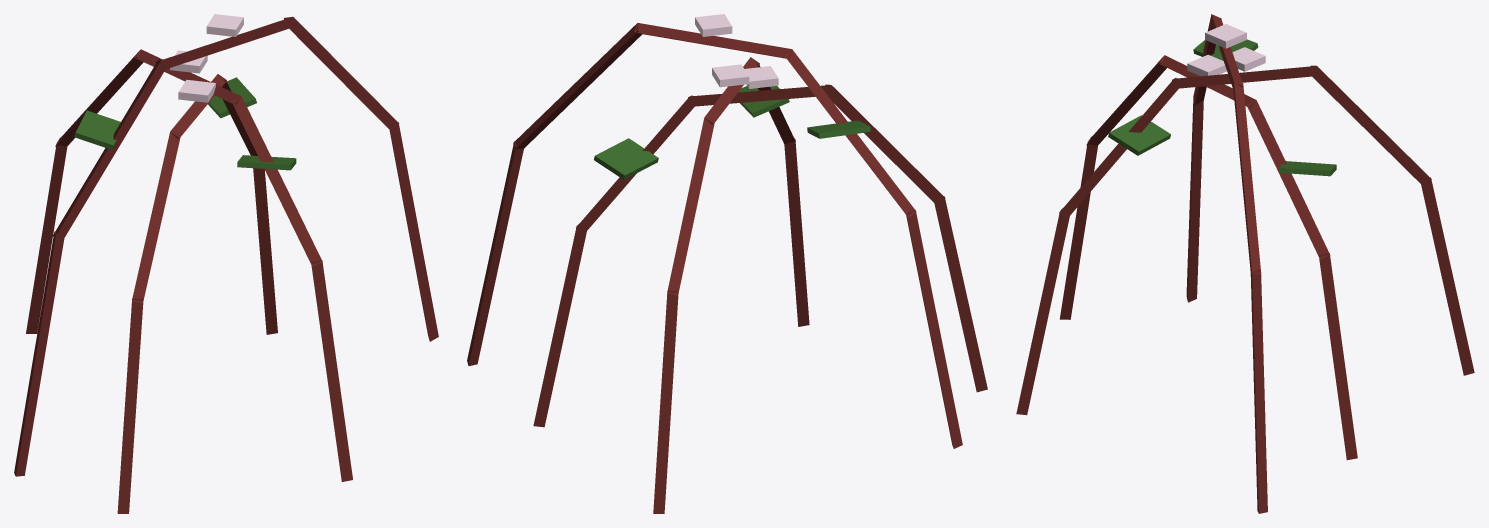
The model's file is Prop_Bee_Flora_Bramble_LOD1.glb.
3 renders of one model, left to right at view 1: azimuth 30°, elevation 25°; view 2: azimuth 150°, elevation 25°; view 3: azimuth 270°, elevation 25°, orthographic. The views are drawn at different scales.
Parts seen in each view (by area): view 1: Prop_Bee_Flora_Bramble; view 2: Prop_Bee_Flora_Bramble; view 3: Prop_Bee_Flora_Bramble.
Part boxes in pixels (x1,y1,x2,y2): Prop_Bee_Flora_Bramble: (14, 14, 438, 513); Prop_Bee_Flora_Bramble: (467, 14, 987, 513); Prop_Bee_Flora_Bramble: (1016, 14, 1474, 513).
Bounding box in the file's own units: 0.3941 × 0.3156 × 0.3504.
